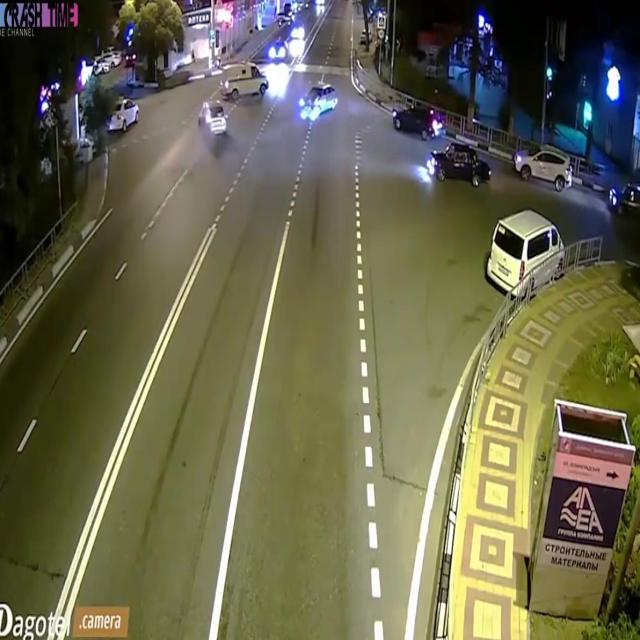accident: (294, 74, 342, 130), (194, 92, 234, 148)
